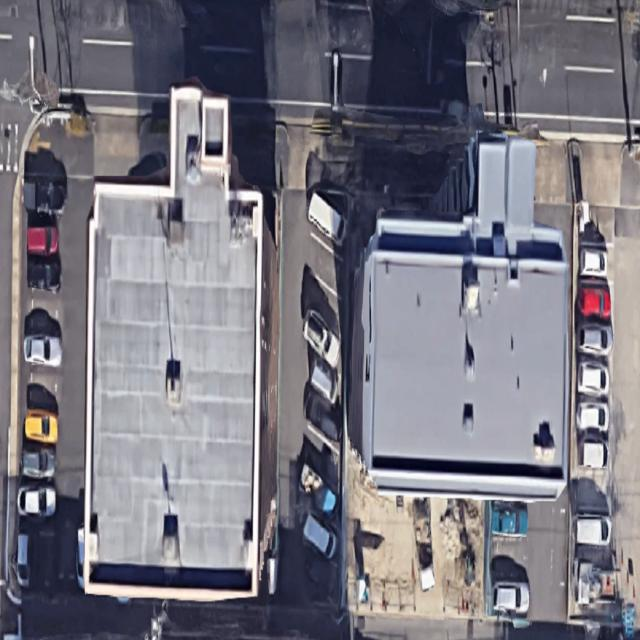Batiment: (84, 85, 271, 598), (356, 133, 568, 499)
